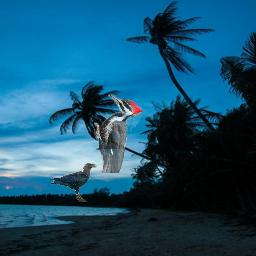Crow: (50, 163, 97, 202)
Woodpecker: (94, 93, 142, 173)
